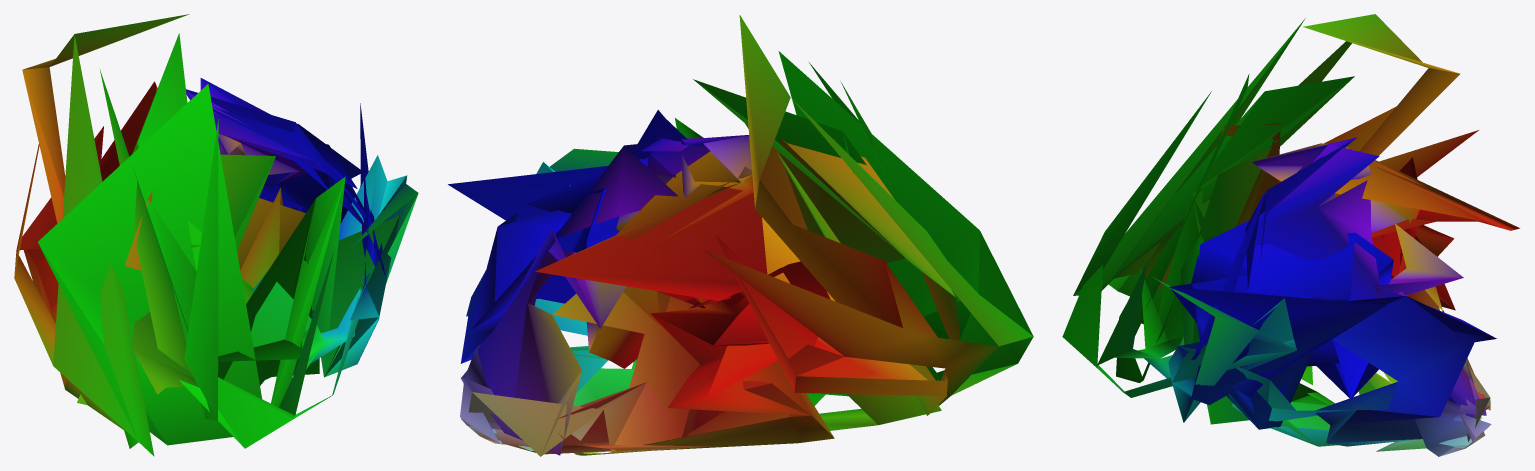
3 views of the same model, side by side, from view 1: azimuth 30°, elevation 25°; view 2: azimuth 150°, elevation 25°; view 3: azimuth 270°, elevation 25° (orthographic). The views are drawn at different scales.
Visible parts, largest first — view 1: anim_10_10_10.002; view 2: anim_10_10_10.002; view 3: anim_10_10_10.002.
Boxes of the visible parts, left/top/right/bottom form: anim_10_10_10.002: left=14, top=14, right=418, bottom=456; anim_10_10_10.002: left=448, top=15, right=1033, bottom=456; anim_10_10_10.002: left=1062, top=14, right=1519, bottom=456.
Bounding box in the file's own units: 0.5 × 0.4298 × 0.4906.
